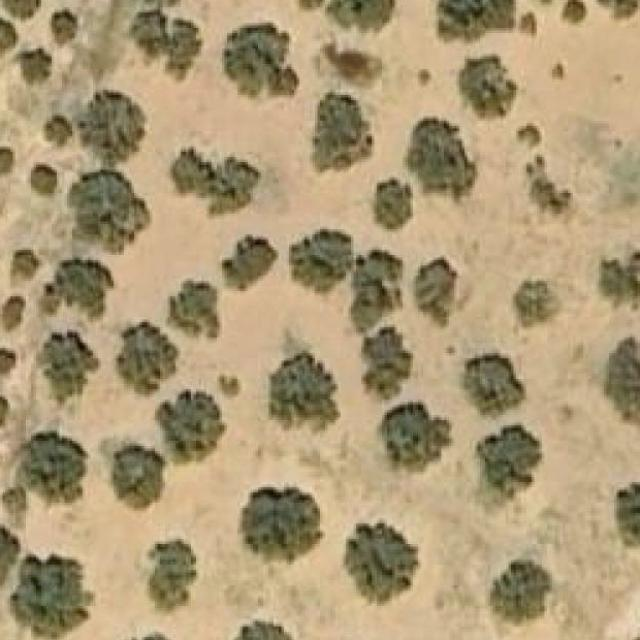Tree: (69, 170, 150, 253), (170, 146, 261, 219), (344, 523, 421, 609), (8, 556, 86, 637), (241, 487, 323, 563), (475, 423, 545, 511), (403, 119, 478, 201), (225, 18, 300, 95), (268, 356, 341, 434), (449, 54, 526, 124), (78, 90, 148, 165), (157, 389, 227, 462), (382, 400, 454, 470), (312, 92, 374, 172), (36, 330, 98, 408), (20, 430, 86, 503), (44, 258, 117, 323), (351, 248, 406, 333), (134, 11, 201, 78), (116, 322, 178, 394), (433, 0, 536, 43), (462, 353, 528, 420), (490, 560, 558, 624), (289, 232, 351, 294), (147, 537, 196, 612), (165, 280, 220, 342), (361, 332, 411, 400), (112, 446, 166, 508), (222, 234, 279, 289), (604, 338, 640, 425), (416, 258, 457, 325), (326, 0, 396, 33), (511, 281, 552, 335), (374, 178, 413, 229), (601, 252, 640, 301), (616, 479, 640, 546), (220, 618, 292, 640), (328, 46, 370, 78), (20, 48, 52, 88), (590, 0, 640, 20), (0, 294, 26, 332), (31, 165, 57, 199), (509, 124, 543, 150), (44, 115, 72, 146), (0, 526, 15, 583), (0, 17, 19, 59), (13, 250, 40, 279), (0, 0, 42, 17), (214, 374, 240, 399), (563, 0, 586, 24), (0, 143, 12, 177), (0, 348, 15, 374), (0, 391, 8, 430), (550, 61, 566, 79), (416, 69, 431, 88), (535, 0, 555, 5)
